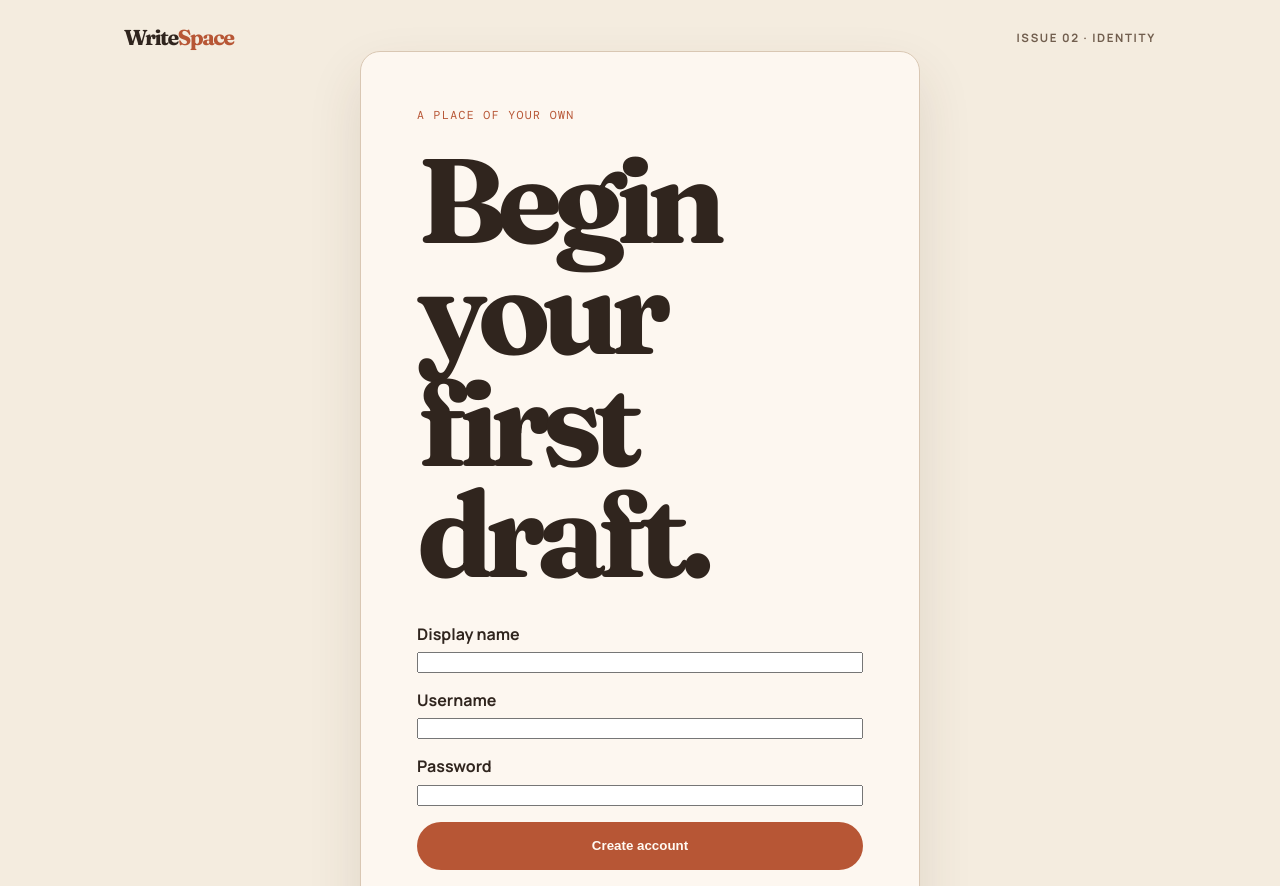
Test case: AuthPage › blocks an invalid registration before submission
What coordinates should you click on to do the following:
click the button "Create account"
I would click on:
 (640, 846)
Its box is [417, 822, 863, 870].
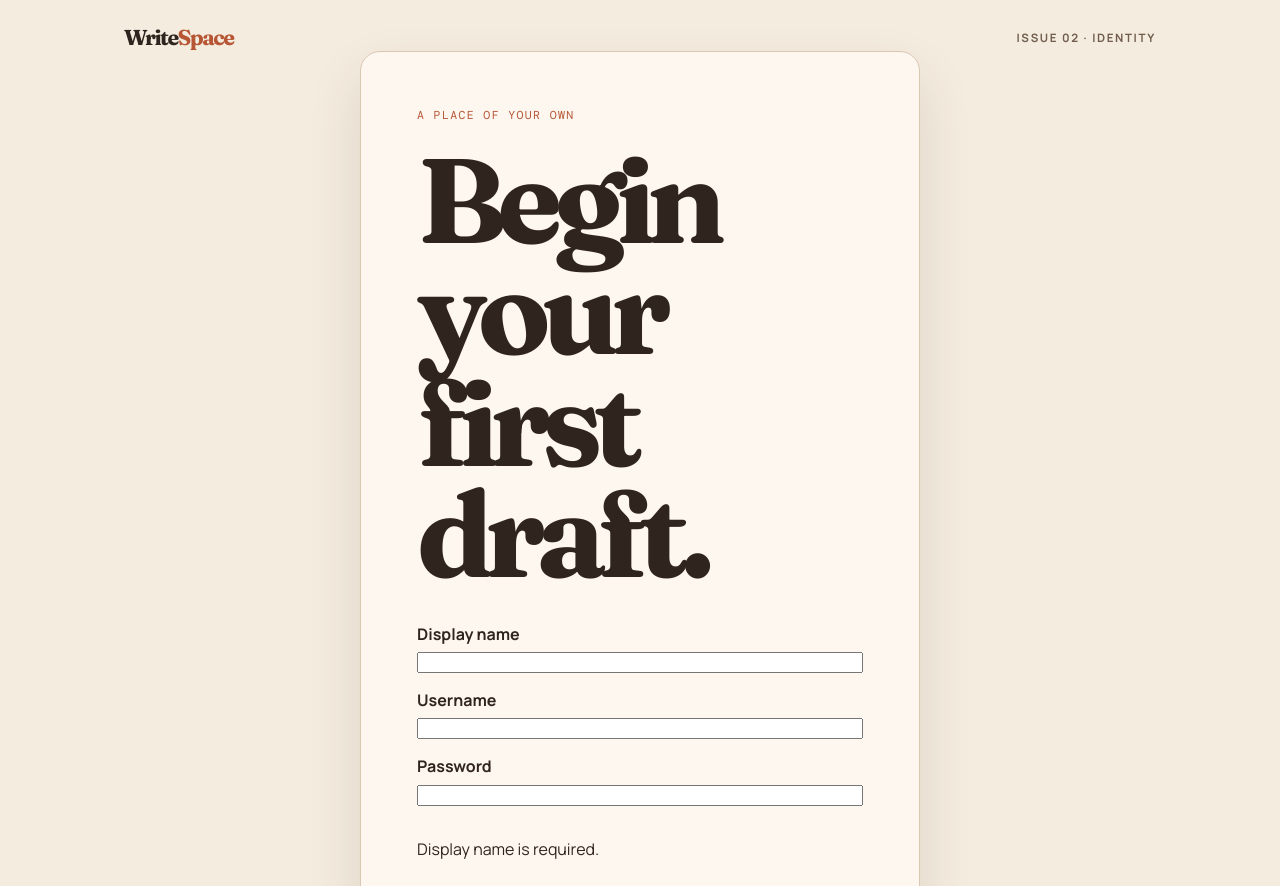
Expected: the message reads "Display name is required.", [417, 838, 599, 860]
